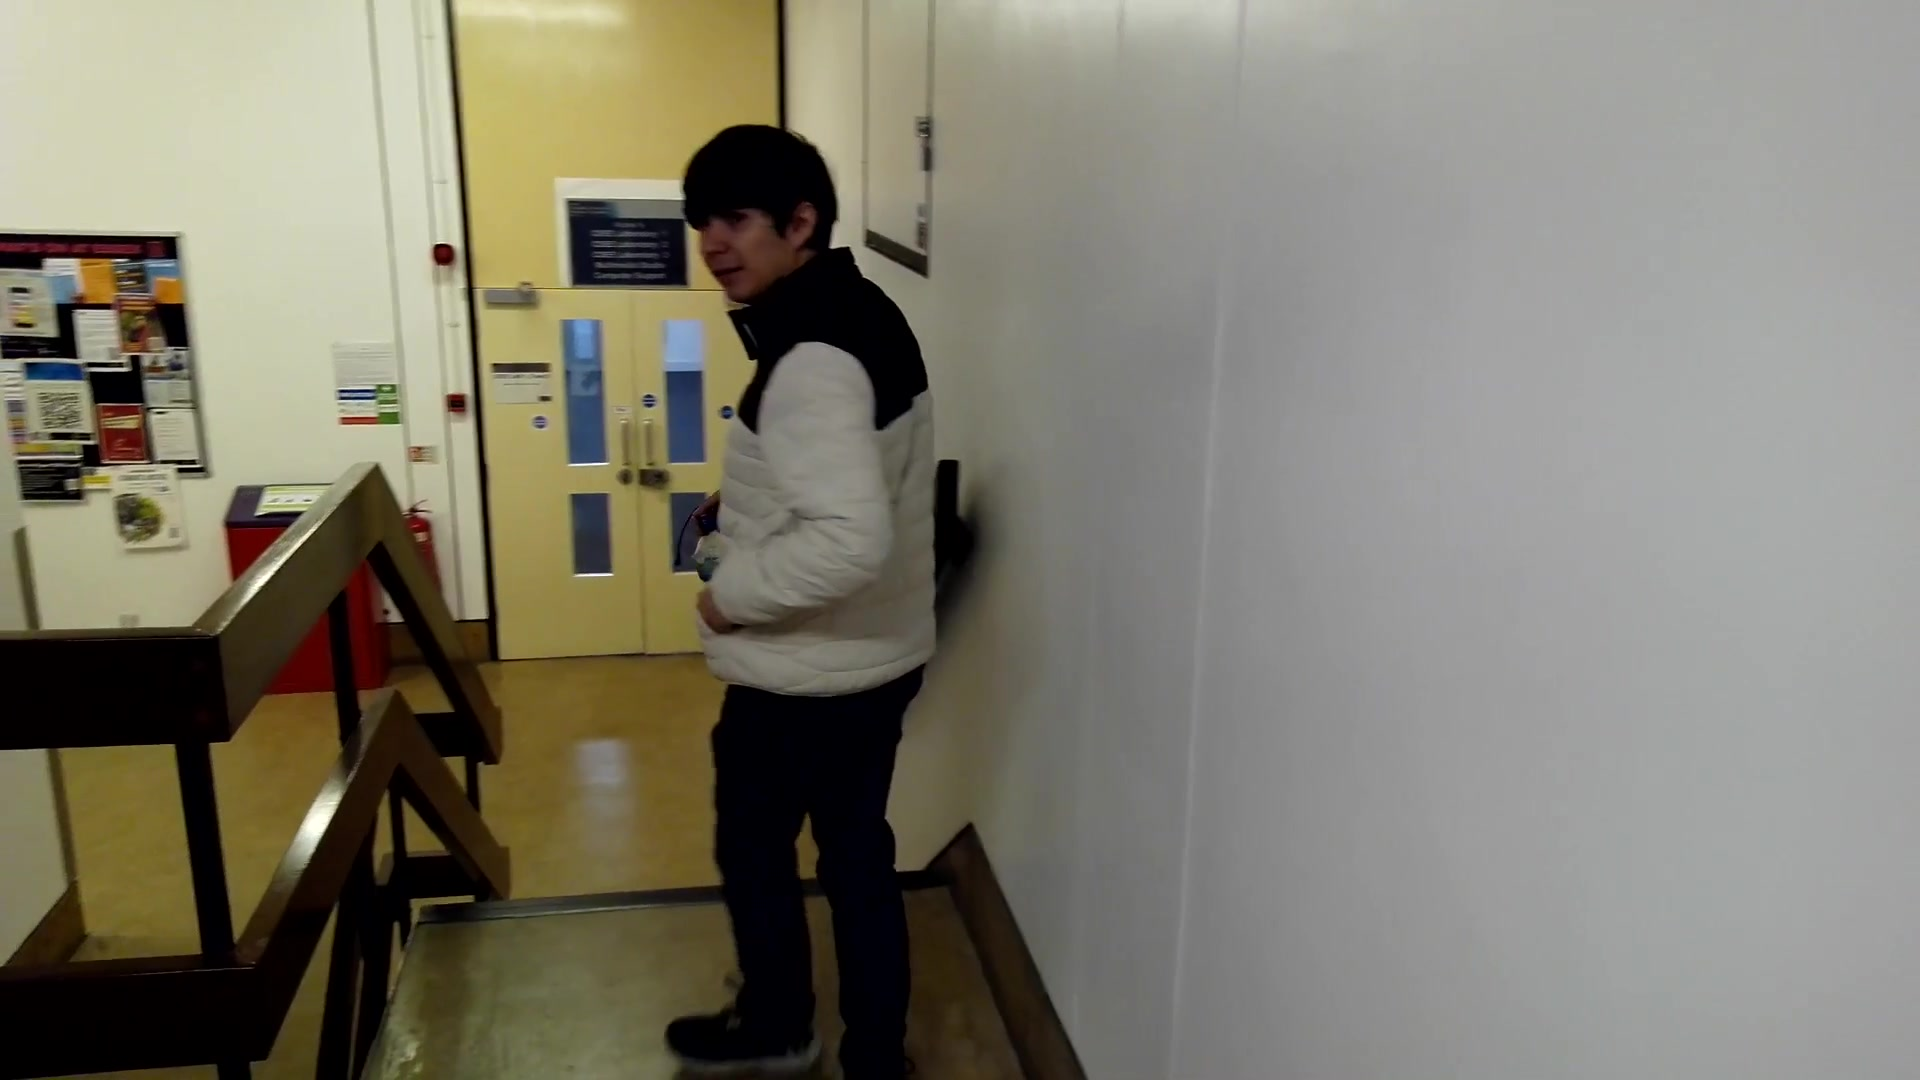Door: (469, 277, 678, 678)
Person: (669, 117, 948, 997)
